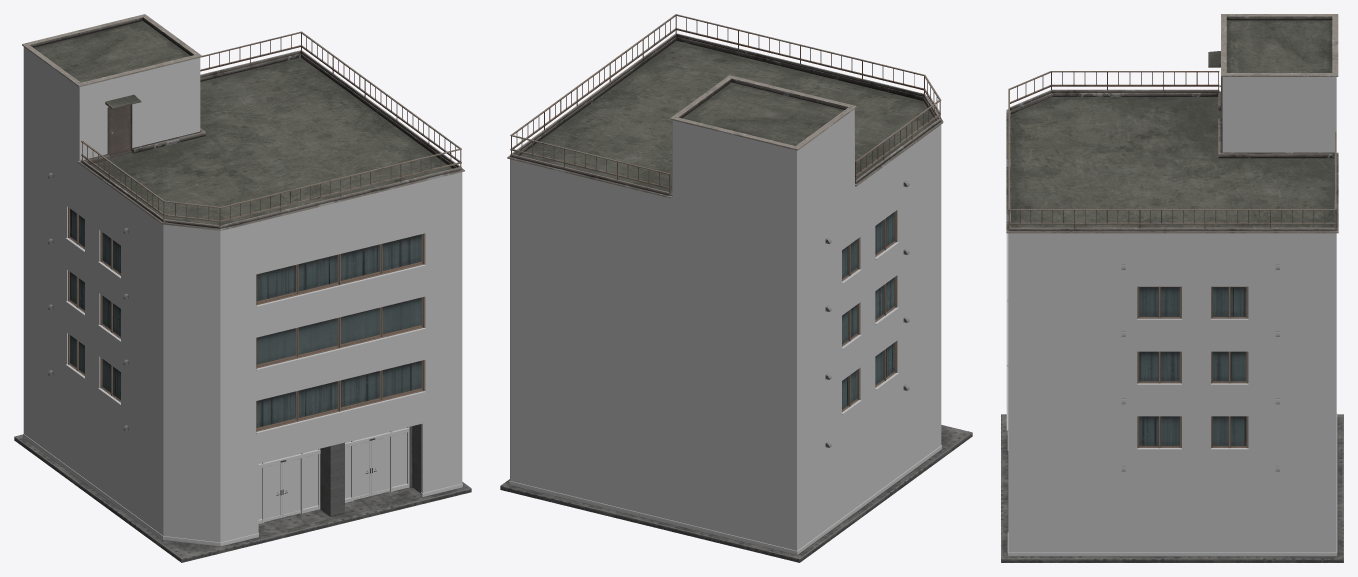
Rendered from BldK.fbx.
3 views of the same model, side by side, from view 1: azimuth 30°, elevation 25°; view 2: azimuth 150°, elevation 25°; view 3: azimuth 270°, elevation 25° (orthographic). The views are drawn at different scales.
Visible parts, largest first — view 1: BldK_LOD0; view 2: BldK_LOD0; view 3: BldK_LOD0.
Boxes of the visible parts, left/top/right/bottom form: BldK_LOD0: left=14, top=14, right=471, bottom=562; BldK_LOD0: left=500, top=14, right=972, bottom=562; BldK_LOD0: left=1001, top=14, right=1343, bottom=562.
Bounding box in the file's own units: 1200 × 1570 × 1200.
